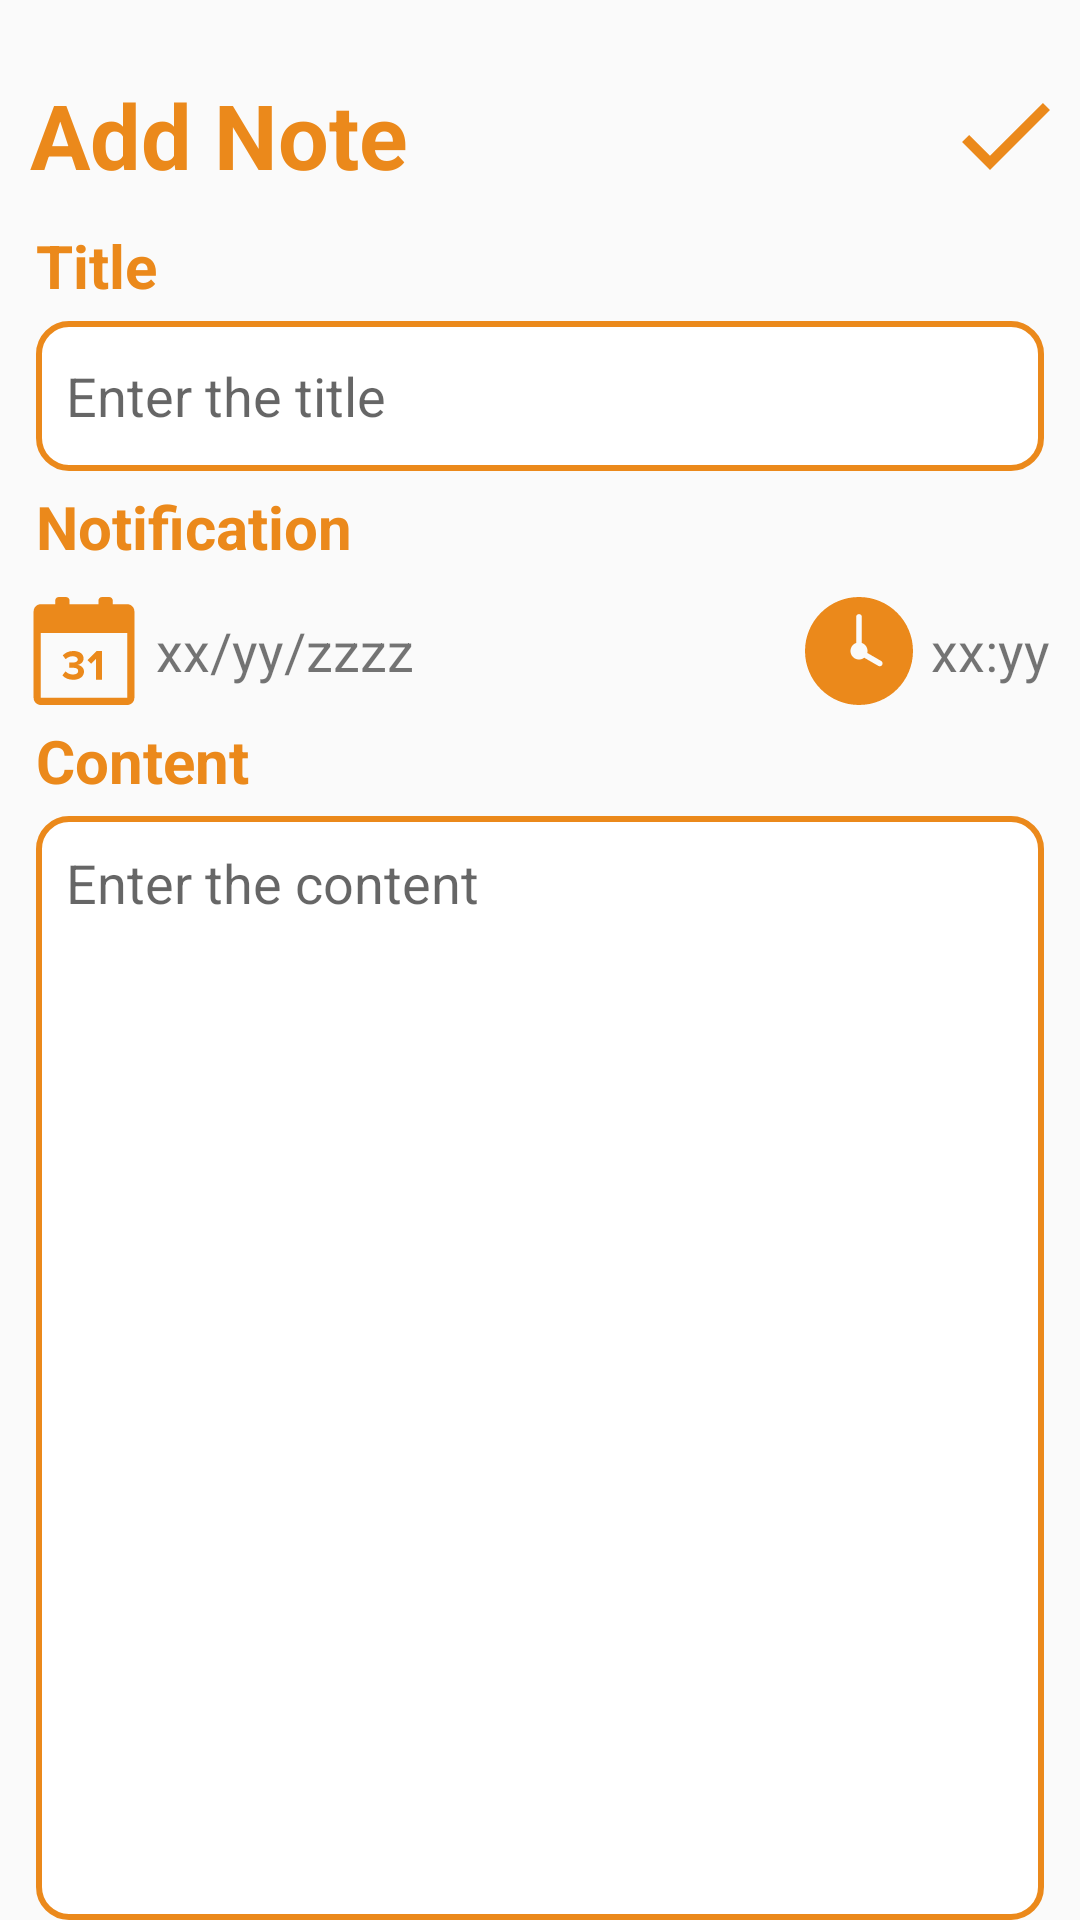

Screen size 1080×1920. Icon name, then its center in pixels as (x=x, y=y):
pickdate: (x=84, y=651)
picktime: (x=859, y=651)
save: (x=1006, y=136)
